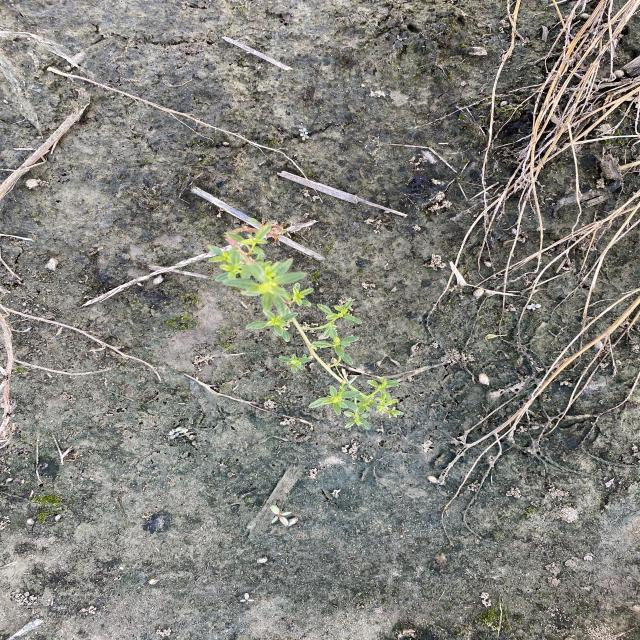Waterhemp: (205, 222, 406, 430)
